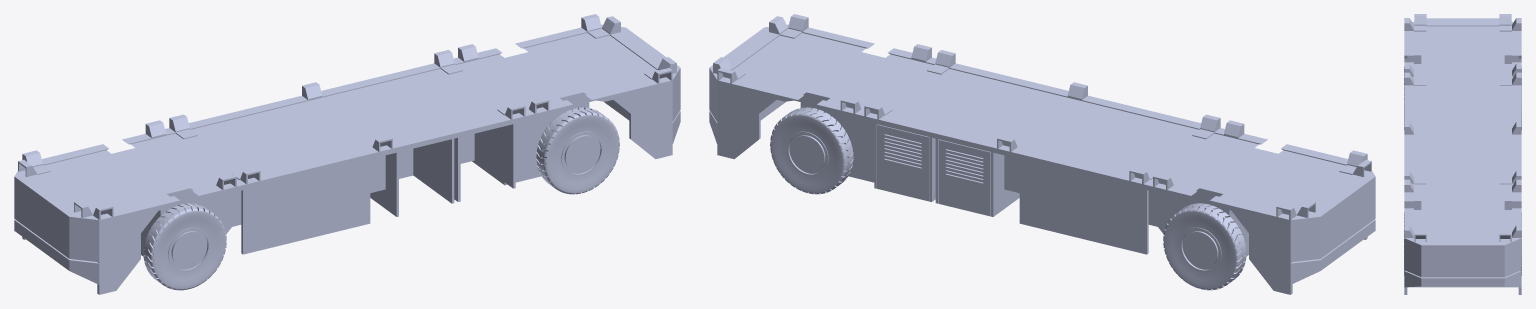
File: agv.fbx
The picture shows the model from 3 angles, left to right: view 1: azimuth 30°, elevation 25°; view 2: azimuth 150°, elevation 25°; view 3: azimuth 270°, elevation 25°; orthographic projection. The views are drawn at different scales.
Parts seen in each view (by area): view 1: agv; view 2: agv; view 3: agv.
Part boxes in pixels (left/top/right/bottom): agv: left=14, top=14, right=680, bottom=294; agv: left=709, top=14, right=1375, bottom=294; agv: left=1404, top=14, right=1521, bottom=294.
Bounding box in the file's own units: 128 × 20.4 × 28.17.
